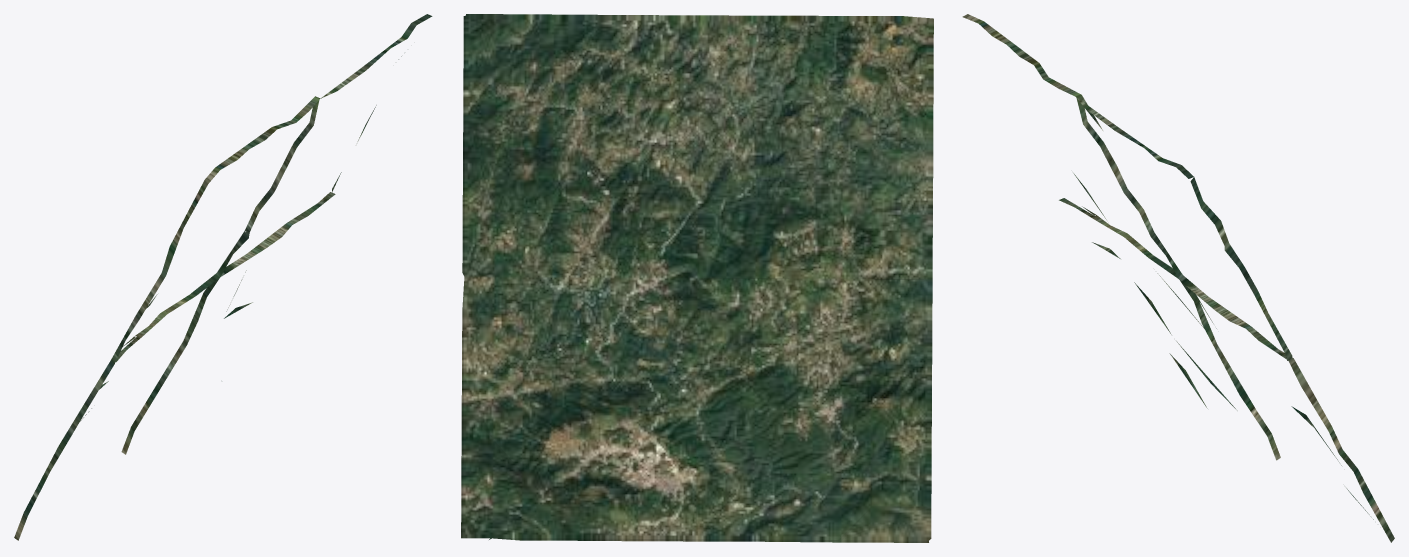
3 views of the same model, side by side, from view 1: azimuth 30°, elevation 25°; view 2: azimuth 150°, elevation 25°; view 3: azimuth 270°, elevation 25° (orthographic). The views are drawn at different scales.
Bounding box in the file's own units: 39132 × 35791 × 33473.
Materials: 1 (1 with a texture image).
